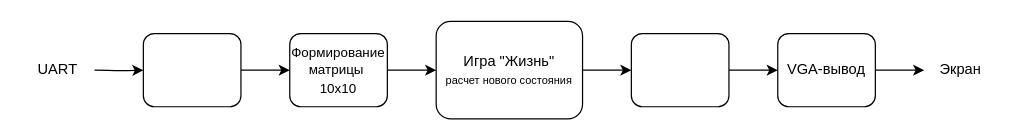
Some shapes in this 1017 by 140 pixel diagram are drawn without their labels. Here are the shapes that lost their labels. From the top down, the box of each, then its label:
(142, 32, 241, 107): Получение начального состояния
(630, 32, 729, 107): Текущее состояние
